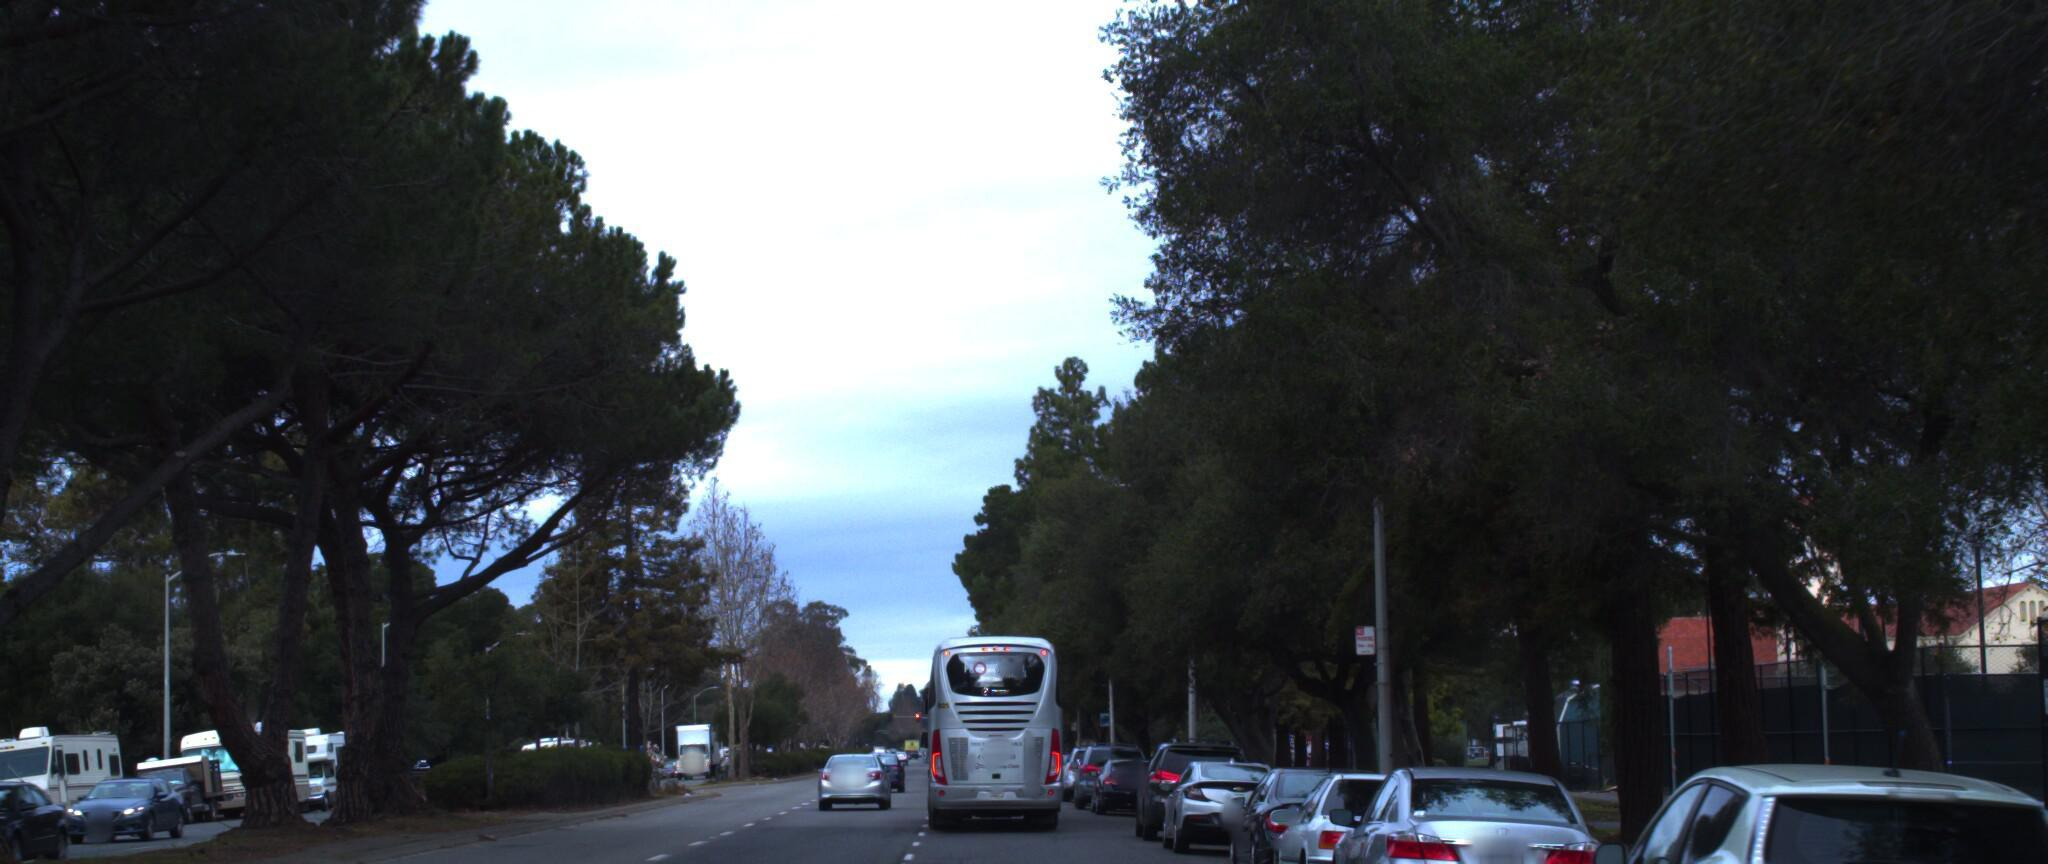bus: (910, 617, 1076, 825)
car: (1539, 739, 2048, 864), (1314, 737, 1634, 864), (1262, 750, 1506, 864), (1220, 747, 1418, 864), (1125, 718, 1263, 834), (1155, 740, 1300, 850), (54, 764, 185, 835), (0, 760, 90, 864), (1066, 724, 1149, 800), (1983, 771, 2048, 864), (1083, 743, 1172, 804), (825, 733, 900, 794)
